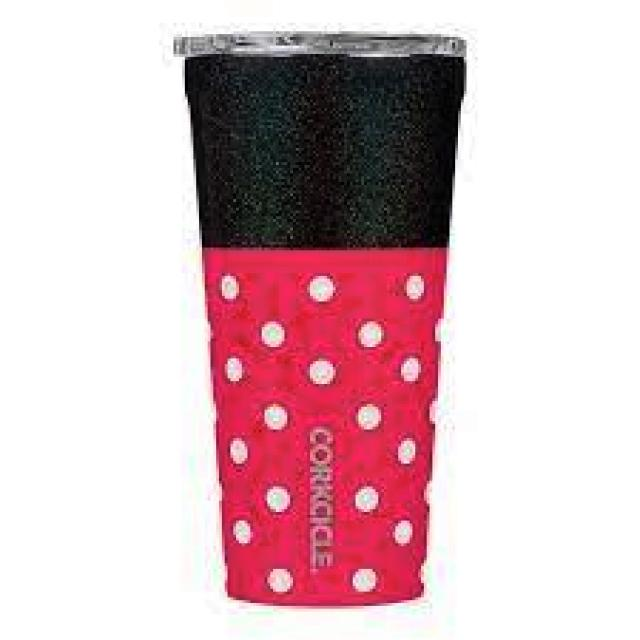bottle: (173, 31, 470, 607)
